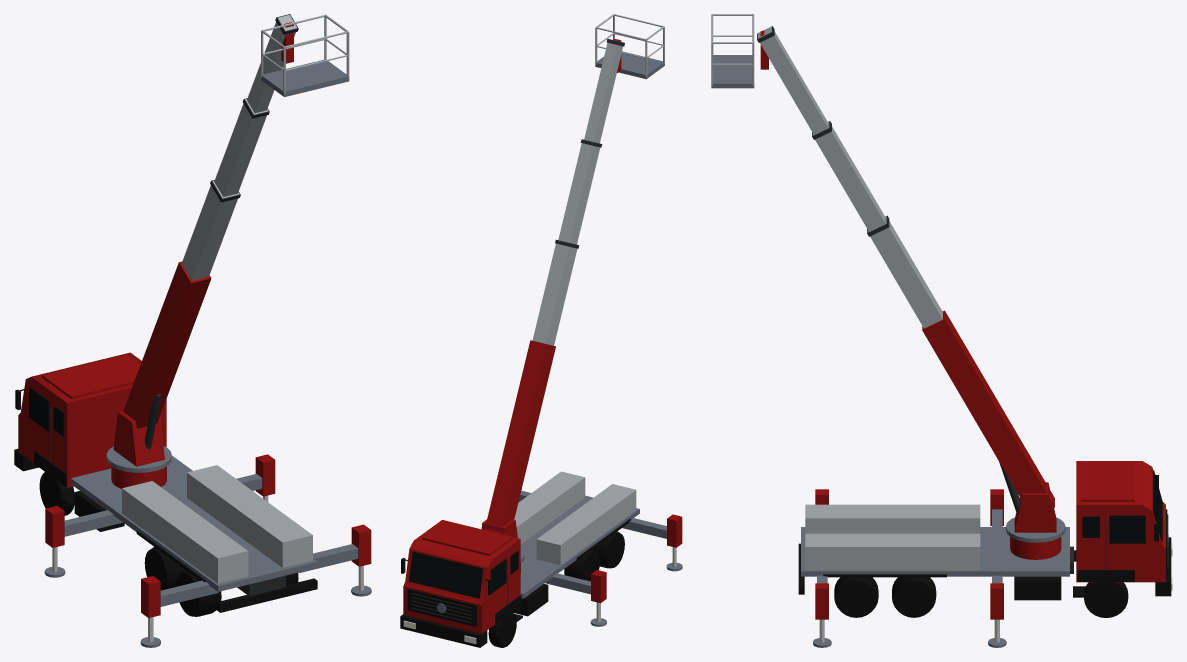
Rendered from plant.truck.access_platform.glb.
3 views of the same model, side by side, from view 1: azimuth 30°, elevation 25°; view 2: azimuth 150°, elevation 25°; view 3: azimuth 270°, elevation 25° (orthographic). The views are drawn at different scales.
Visible parts, largest first — view 1: body__steel_galvanised, chassis__car_red, boom__steel_galvanised, boom__car_red, body__steel_painted, outriggers__steel_painted, chassis__plastic_black, outriggers__car_red, wheels__rubber, body__car_red, basket__steel_painted, basket__steel_galvanised (+3 smaller); view 2: body__steel_galvanised, chassis__car_red, boom__steel_galvanised, boom__car_red, chassis__plastic_black, chassis__glass_dark, body__steel_painted, wheels__rubber, outriggers__steel_painted, outriggers__car_red, basket__steel_painted, basket__steel_galvanised (+1 smaller); view 3: body__steel_galvanised, chassis__car_red, boom__steel_galvanised, boom__car_red, body__steel_painted, wheels__rubber, chassis__plastic_black, body__car_red, chassis__glass_dark, outriggers__car_red, basket__steel_painted, basket__steel_galvanised (+2 smaller).
Boxes of the visible parts, left/top/right/bottom form: body__steel_galvanised: left=122, top=465, right=312, bottom=583; chassis__car_red: left=18, top=352, right=166, bottom=487; boom__steel_galvanised: left=181, top=15, right=297, bottom=280; boom__car_red: left=123, top=22, right=293, bottom=428; body__steel_painted: left=71, top=446, right=317, bottom=591; outriggers__steel_painted: left=44, top=474, right=371, bottom=647; chassis__plastic_black: left=14, top=389, right=317, bottom=612; outriggers__car_red: left=45, top=454, right=371, bottom=617; wheels__rubber: left=39, top=472, right=298, bottom=616; body__car_red: left=111, top=411, right=166, bottom=488; basket__steel_painted: left=261, top=59, right=349, bottom=96; basket__steel_galvanised: left=261, top=14, right=349, bottom=94; body__steel_galvanised: left=514, top=471, right=636, bottom=565; chassis__car_red: left=403, top=520, right=520, bottom=633; boom__steel_galvanised: left=532, top=39, right=623, bottom=345; boom__car_red: left=484, top=39, right=621, bottom=533; chassis__plastic_black: left=400, top=518, right=631, bottom=647; chassis__glass_dark: left=409, top=550, right=518, bottom=598; body__steel_painted: left=520, top=495, right=639, bottom=598; wheels__rubber: left=488, top=531, right=624, bottom=647; outriggers__steel_painted: left=518, top=490, right=682, bottom=626; outriggers__car_red: left=591, top=514, right=682, bottom=603; basket__steel_painted: left=595, top=51, right=664, bottom=79; basket__steel_galvanised: left=595, top=14, right=664, bottom=77; body__steel_galvanised: left=805, top=504, right=980, bottom=570; chassis__car_red: left=1076, top=461, right=1165, bottom=582; boom__steel_galvanised: left=757, top=26, right=942, bottom=328; boom__car_red: left=760, top=31, right=1054, bottom=508; body__steel_painted: left=801, top=517, right=1069, bottom=576; wheels__rubber: left=834, top=577, right=1128, bottom=617; chassis__plastic_black: left=798, top=475, right=1171, bottom=600; body__car_red: left=1010, top=482, right=1061, bottom=559; chassis__glass_dark: left=1082, top=470, right=1162, bottom=543; outriggers__car_red: left=815, top=489, right=1003, bottom=619; basket__steel_painted: left=711, top=55, right=754, bottom=88; basket__steel_galvanised: left=711, top=14, right=754, bottom=85.
Bounding box in the file's own units: 5.64 × 14.71 × 10.81.
